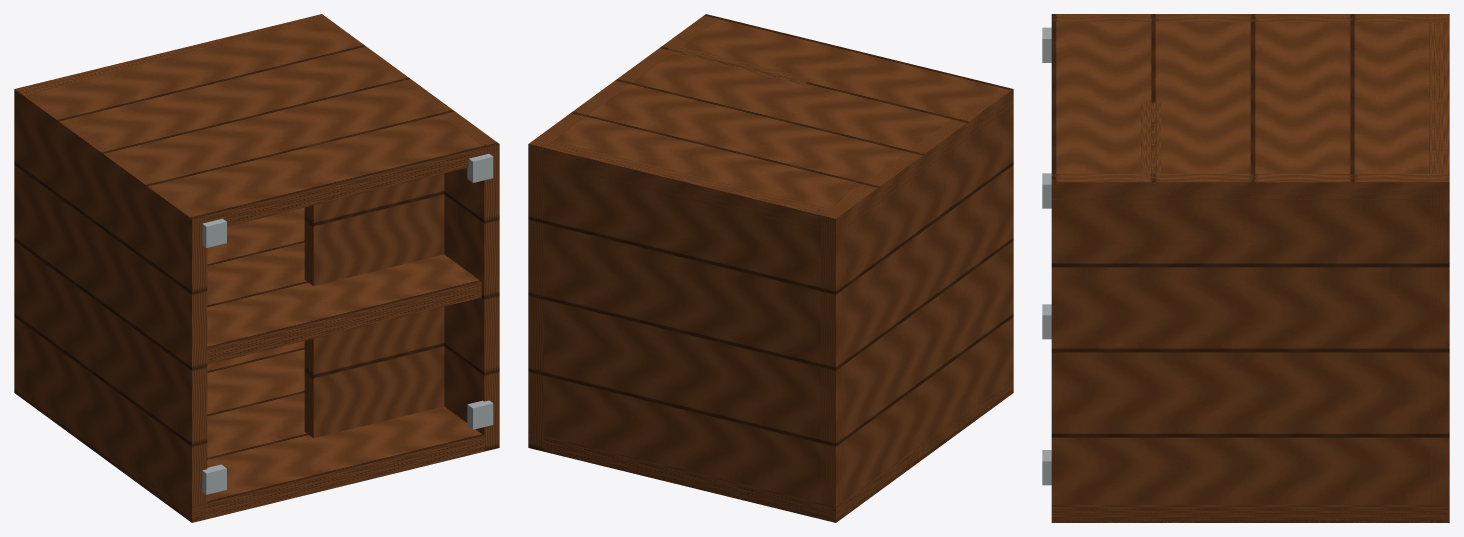
File: suburban-outbreak-interiors-kitchen-corner-carcass-3f6b85bf__19898.glb
3 renders of one model, left to right at view 1: azimuth 30°, elevation 25°; view 2: azimuth 150°, elevation 25°; view 3: azimuth 270°, elevation 25°, orthographic. The views are drawn at different scales.
Parts seen in each view (by area): view 1: kitchen-corner-carcass; view 2: kitchen-corner-carcass; view 3: kitchen-corner-carcass.
Part boxes in pixels (<box>): kitchen-corner-carcass: <box>14,14,499,522</box>; kitchen-corner-carcass: <box>528,14,1013,522</box>; kitchen-corner-carcass: <box>1042,14,1449,522</box>.
Bounding box in the file's own units: 0.9 × 0.85 × 0.921.
2 materials, 1 textured.
